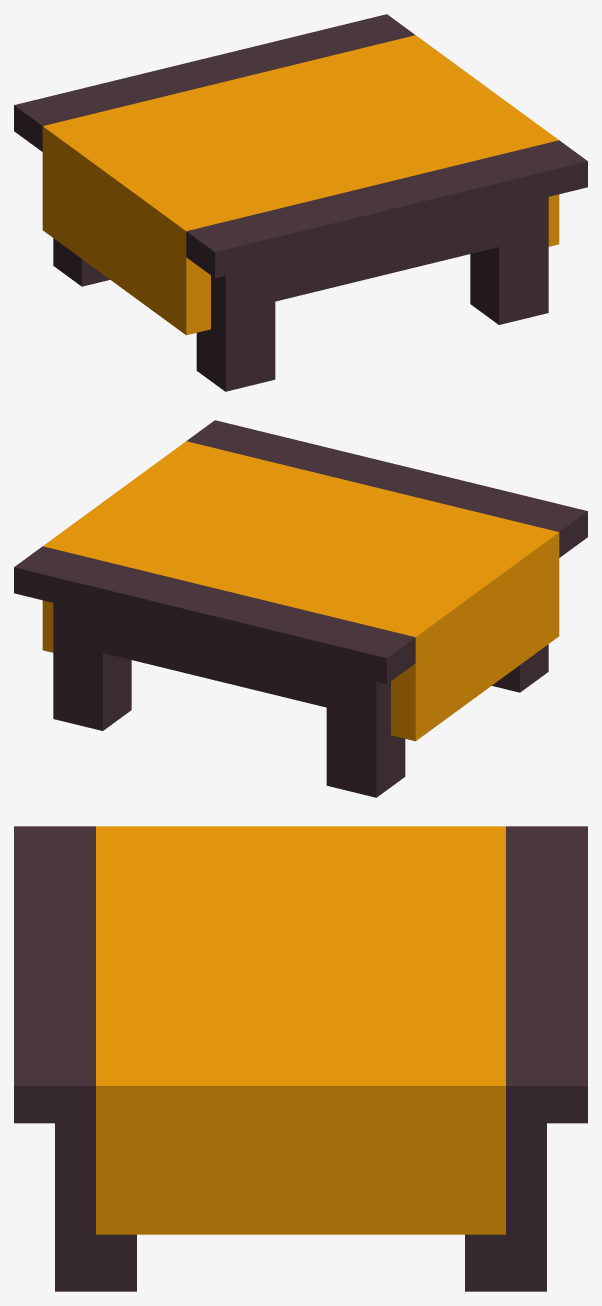
Rendered from small_table_c_yellow.obj.
3 renders of one model, top to bottom at view 1: azimuth 30°, elevation 25°; view 2: azimuth 150°, elevation 25°; view 3: azimuth 270°, elevation 25°, orthographic. The views are drawn at different scales.
Bounding box in the file's own units: 1.5 × 0.6 × 1.4.
Materials: 1 (1 with a texture image).
